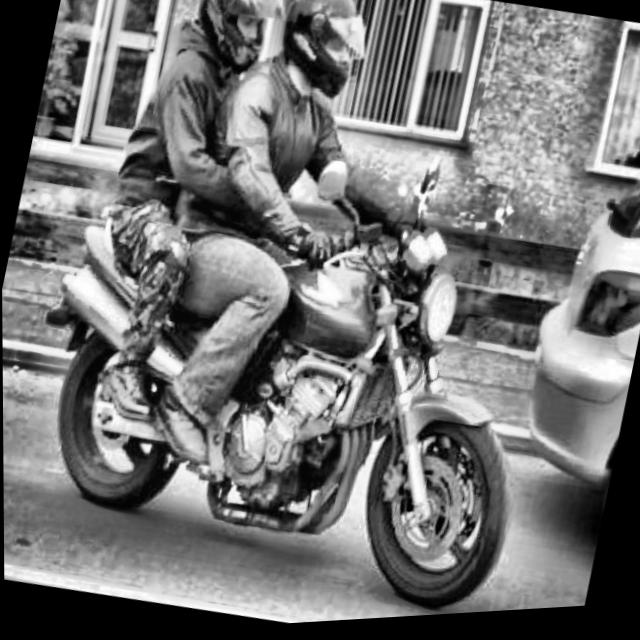motorcycle: (1, 108, 578, 640)
